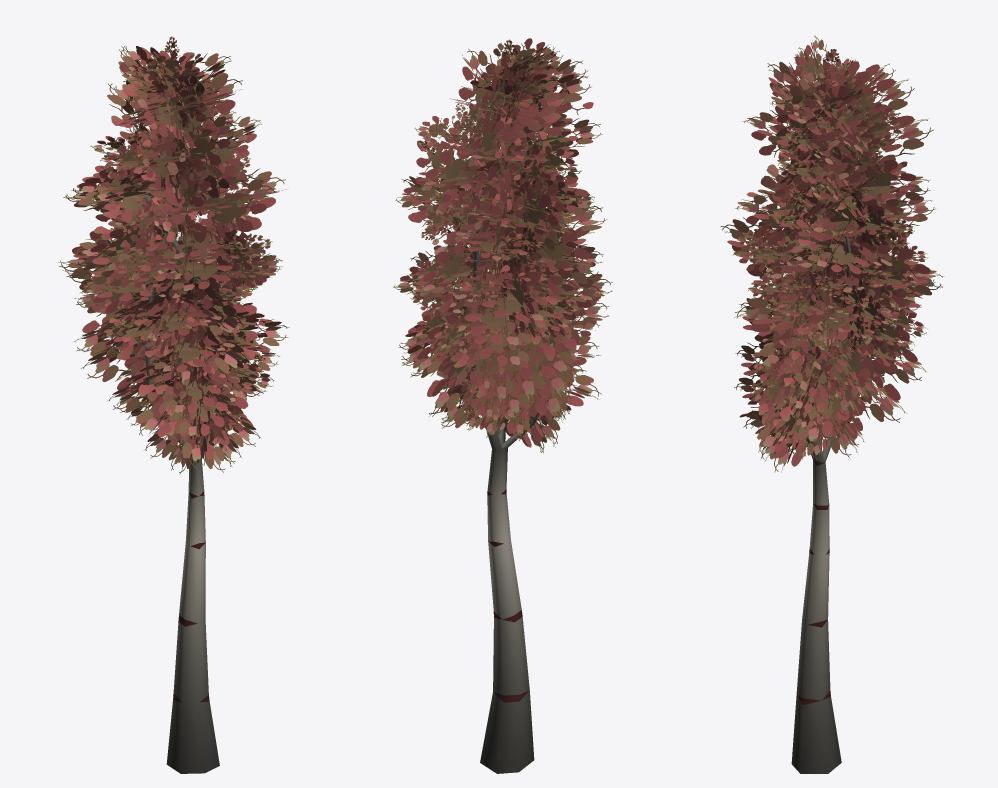
File: Tree_3E.fbx
3 renders of one model, left to right at view 1: azimuth 30°, elevation 25°; view 2: azimuth 150°, elevation 25°; view 3: azimuth 270°, elevation 25°, orthographic. The views are drawn at different scales.
Parts seen in each view (by area): view 1: Tree_3E; view 2: Tree_3E; view 3: Tree_3E.
Boxes of the visible parts, left/top/right/bottom form: Tree_3E: left=58, top=36, right=289, bottom=773; Tree_3E: left=393, top=38, right=612, bottom=773; Tree_3E: left=720, top=35, right=944, bottom=773.
Bounding box in the file's own units: 199 × 500 × 191.
